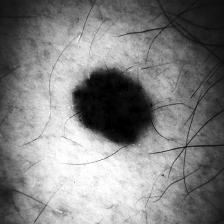Benign Marking or Mole: (74, 72, 152, 144)
